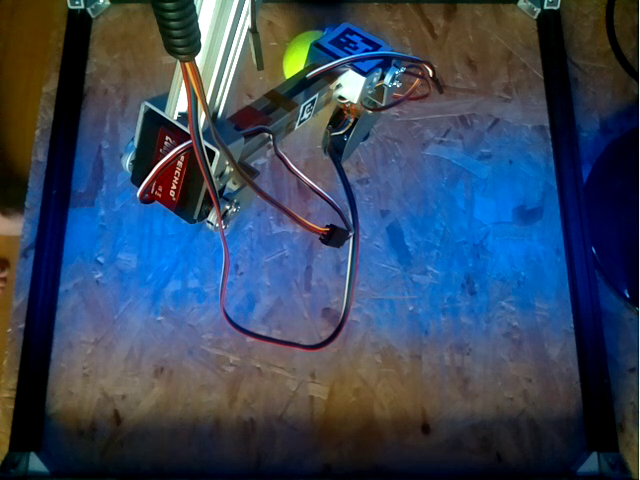tennis_ball: (283, 27, 317, 75)
